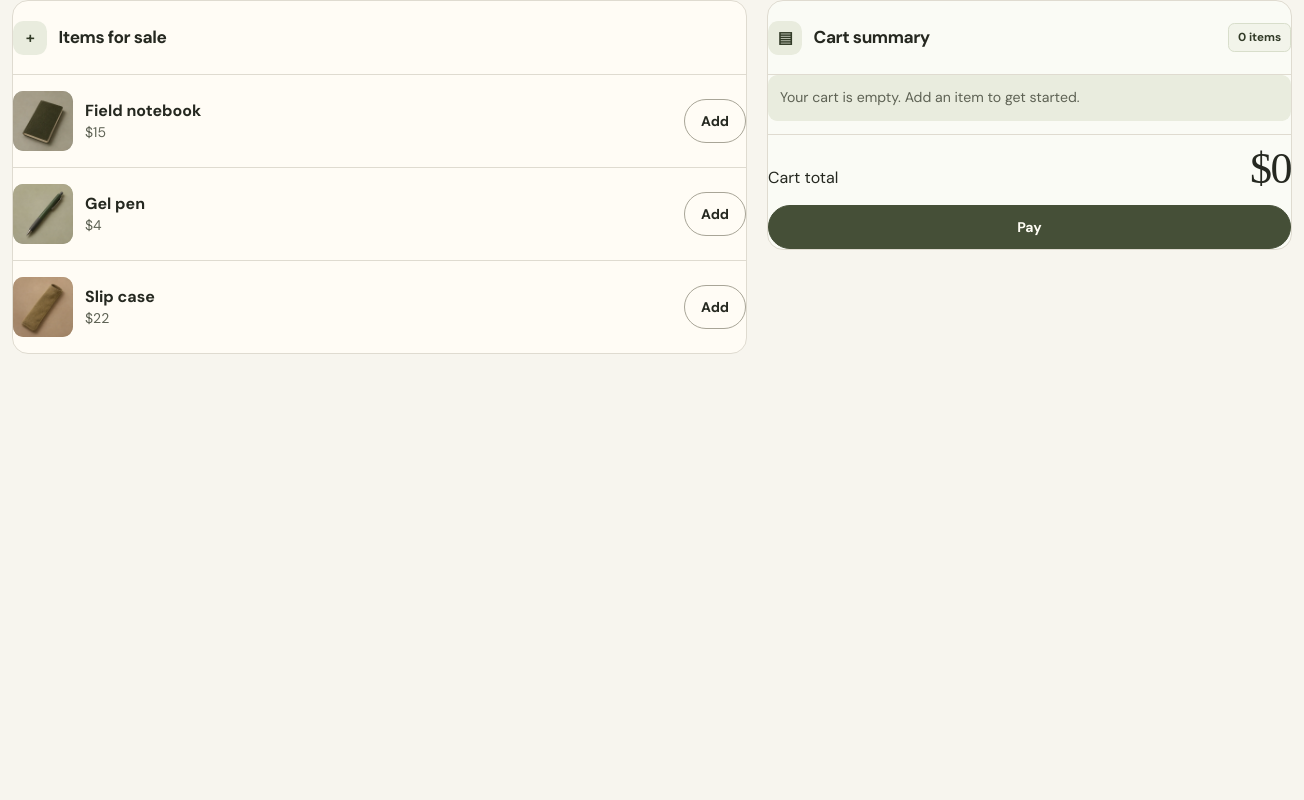
Test: CheckoutClient › keeps the snapshot after Pay, flags a changed cart until it matches again, and completes with only the attempt id
This screenshot has width=1304, height=800.
Click the button with aria-label "Add Field notebook". click: [715, 121]
box: [684,99,746,143]
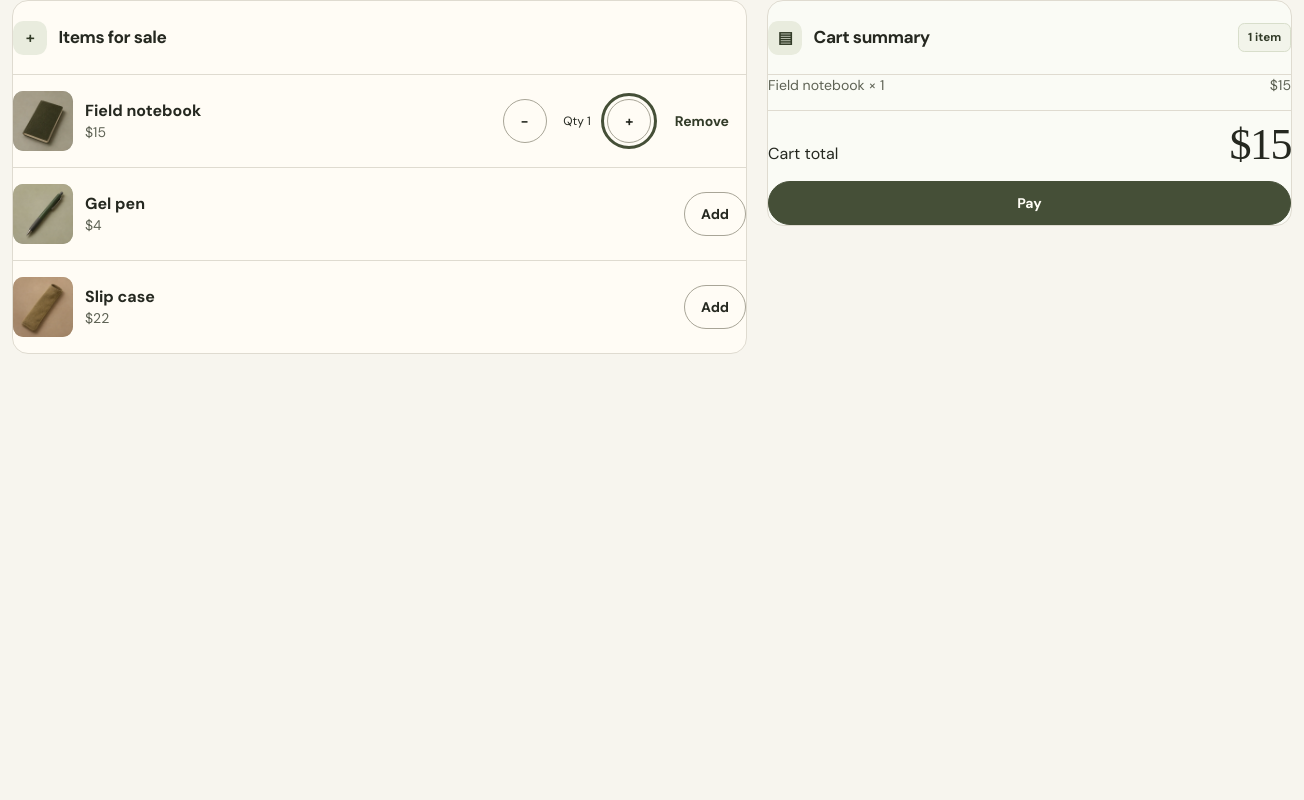
Click the button "Pay". click: [1030, 203]
box: [768,181,1291,225]
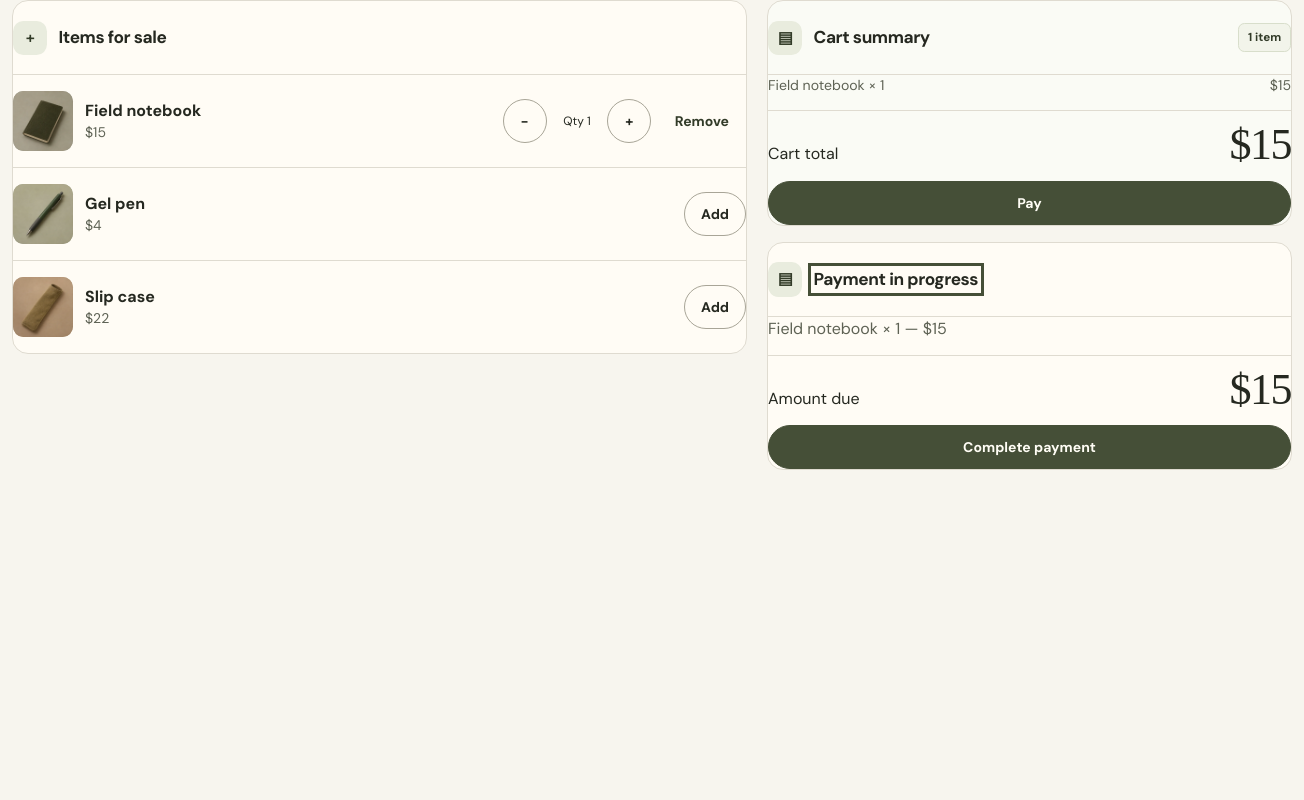
Expected: the text "Your cart changed after payment started. You will be charged the amount below." is not shown
Click the button with aria-label "Add Gel pen". click: [715, 214]
box: [684,192,746,236]
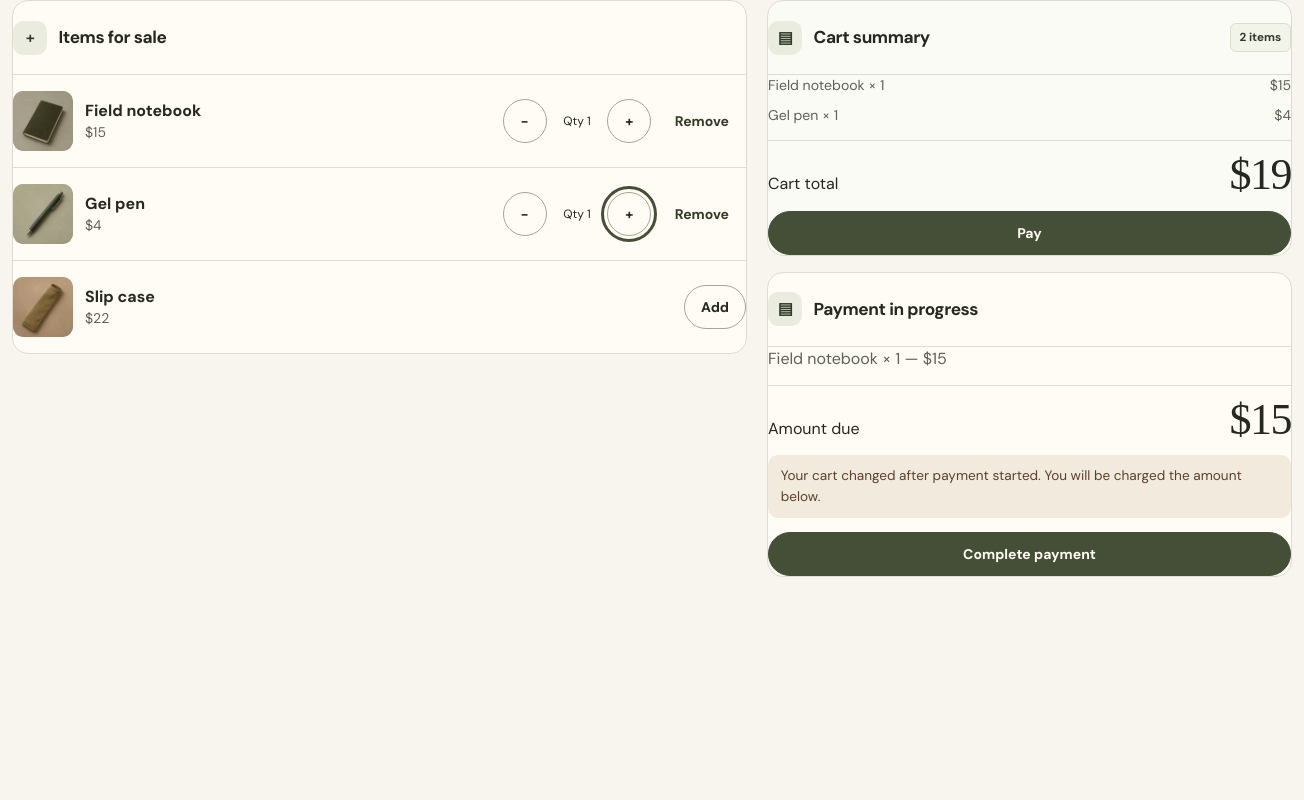
Expected: the text named "Amount due" reads "$15", [1230,395,1291,444]
Expected: the text named "Cart total" reads "$19", [1230,150,1291,199]
Click the button with aria-label "Remove Gel pen". click: [702, 214]
box: [658,192,746,236]
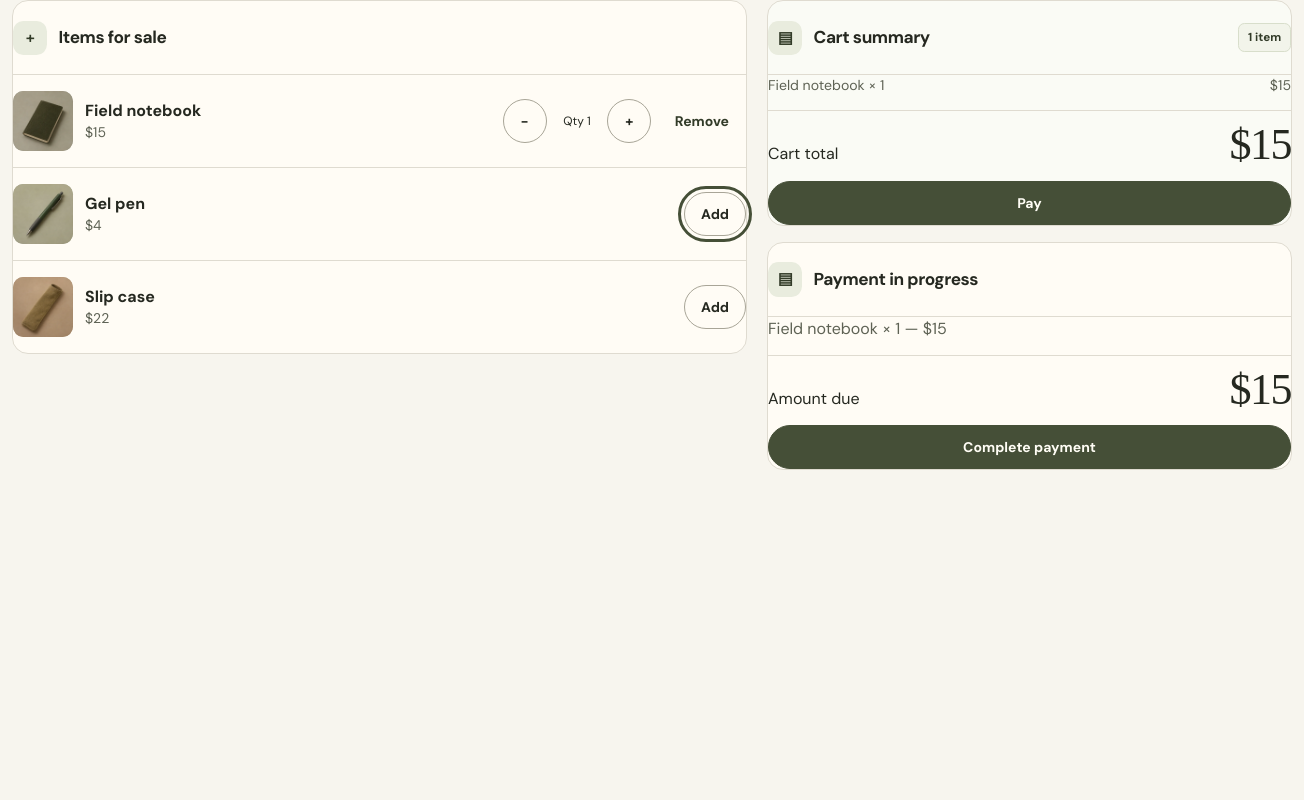
Expected: the text "Your cart changed after payment started. You will be charged the amount below." is gone
Click the button with aria-label "Add Gel pen". click: [715, 214]
box: [684,192,746,236]
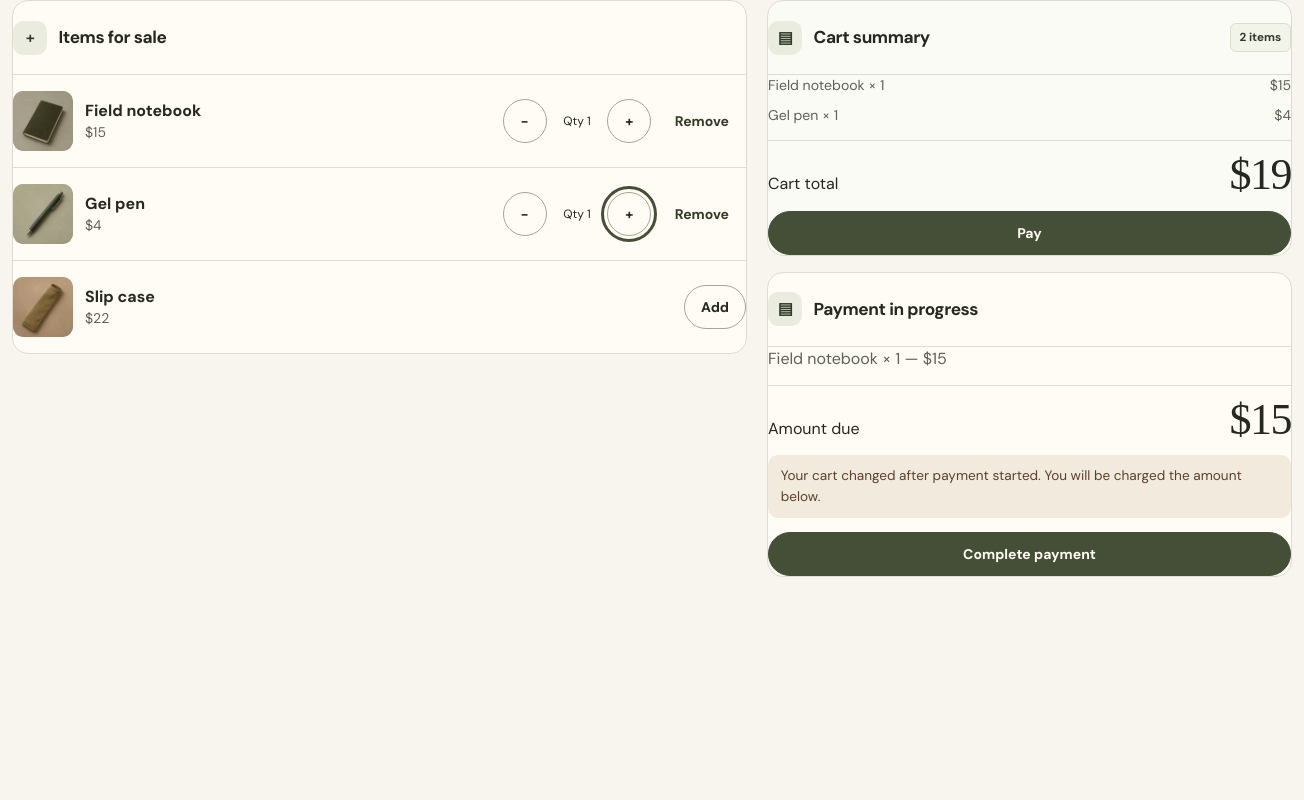
Click the button "Complete payment". click: [1030, 554]
box: [768,532,1291,576]
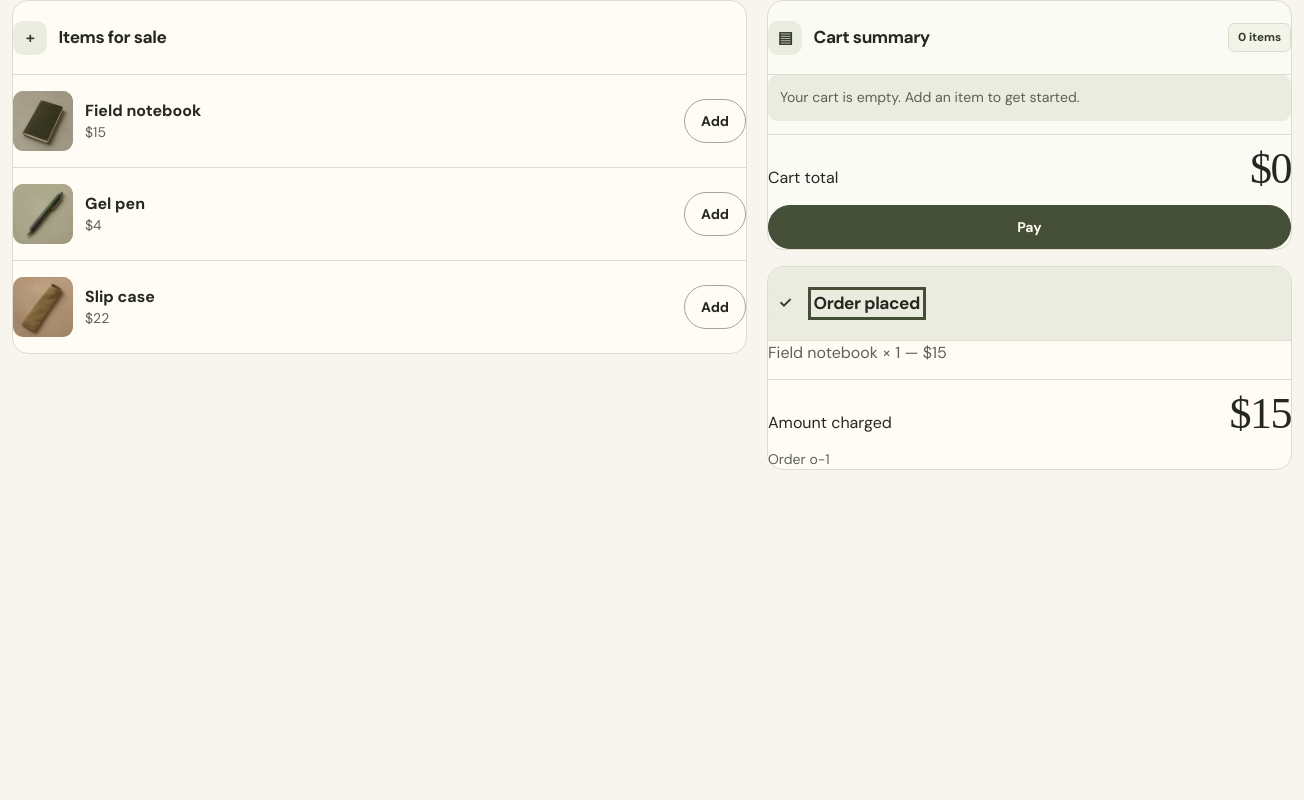
Expected: the text named "Amount charged" reads "$15", [1230,389,1291,438]
Expected: the list items read "Field notebook × 1 — $15", in this order, [768,342,947,363]
